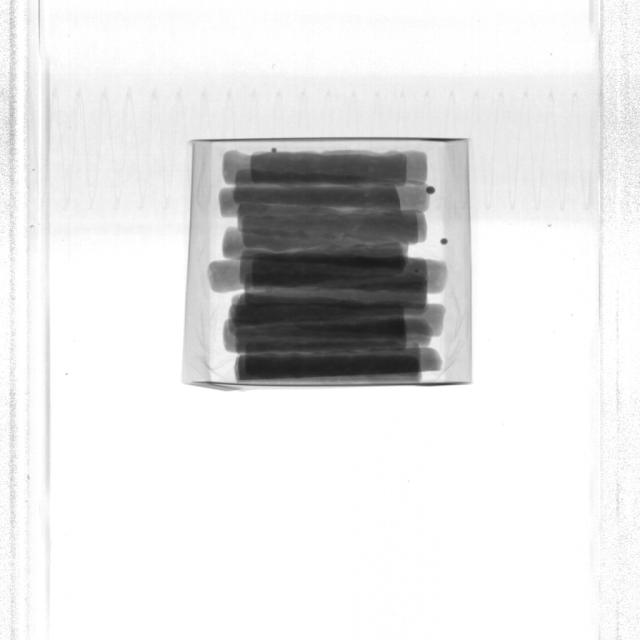ym: (427, 186, 436, 195), (441, 239, 448, 245), (416, 269, 421, 274), (272, 148, 277, 153)
